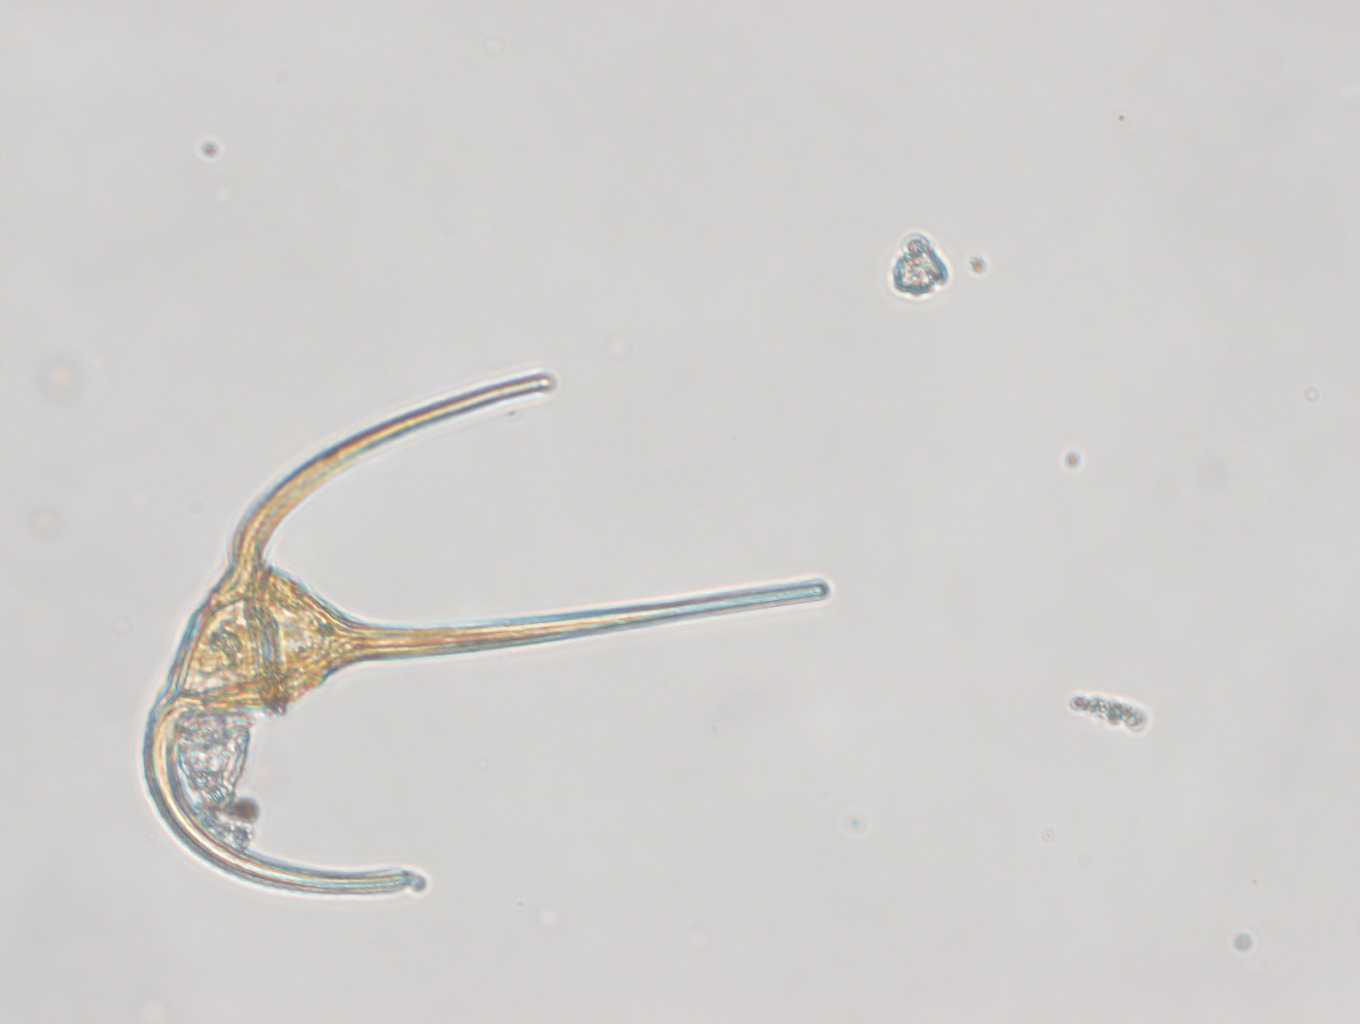ceratium trichoceros: (131, 364, 845, 904)
